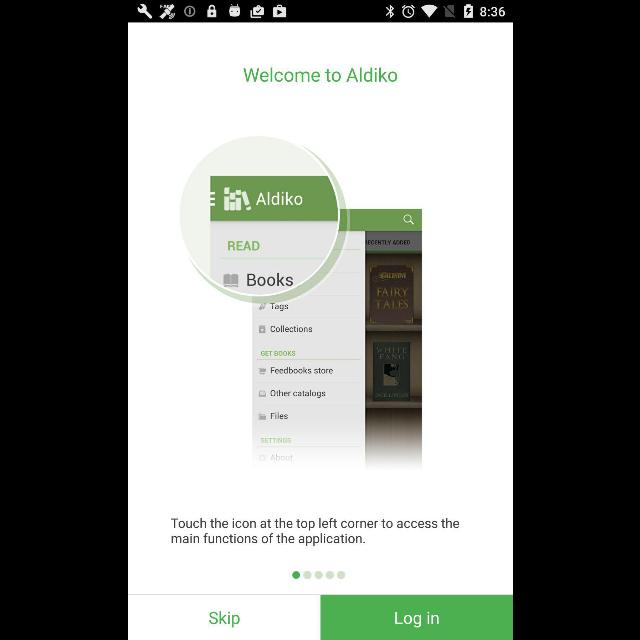image: (178, 136, 422, 467)
pageindicator: (292, 570, 344, 580)
text: (171, 518, 459, 546), (242, 67, 398, 83)
textbutton: (127, 594, 319, 640), (320, 594, 512, 640)
uppertaskbar: (128, 1, 512, 23)
